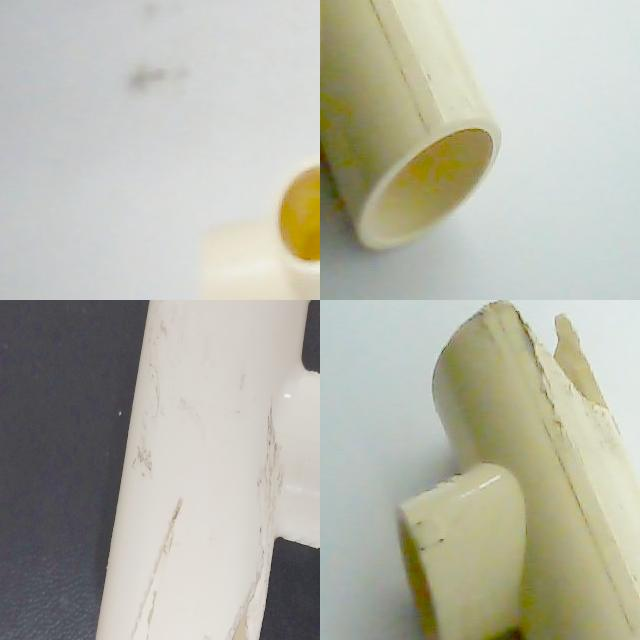Defective: (510, 300, 610, 411), (157, 530, 252, 608), (26, 497, 141, 549)
T Joint: (399, 300, 640, 640), (0, 365, 256, 640), (320, 0, 502, 254), (202, 157, 320, 300)
